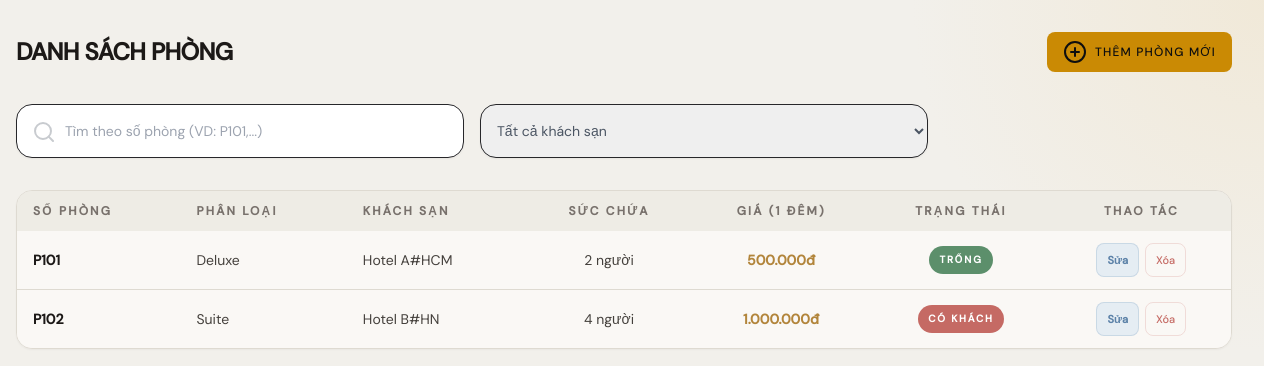
it: AdminRoomManagement › filter theo số phòng
This screenshot has width=1264, height=366.
Expected: the text "P101" is shown, [17,231,180,290]
Type "P101" into the field with placeholder "Tìm theo số phòng (VD: P101,...)" at (240,131), box [16,104,464,158]
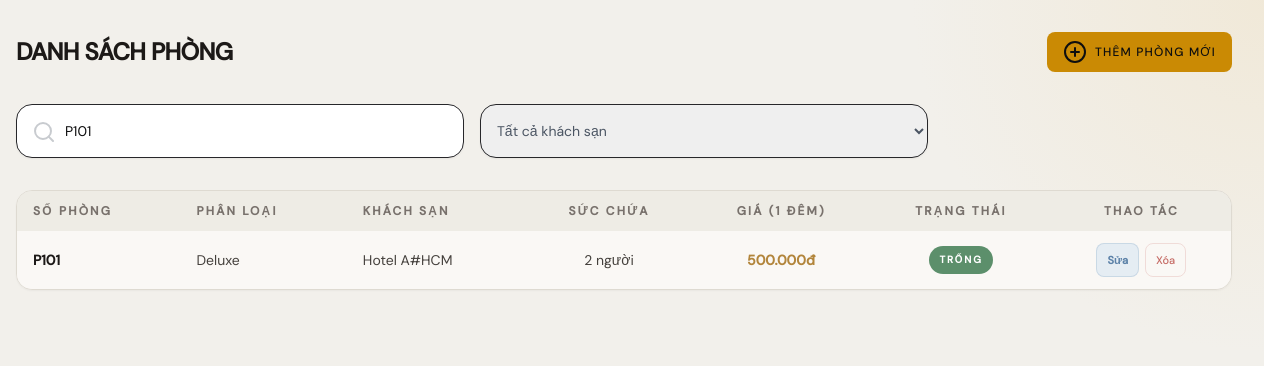
Expected: the text "P101" is shown, [17,231,180,289]
Result: the text "P102" is gone
